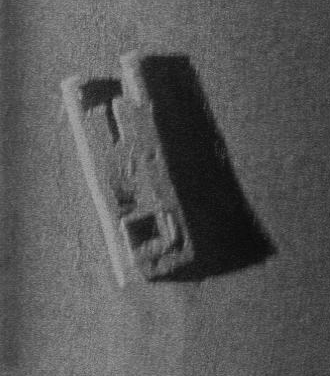ship: (56, 51, 200, 291)
